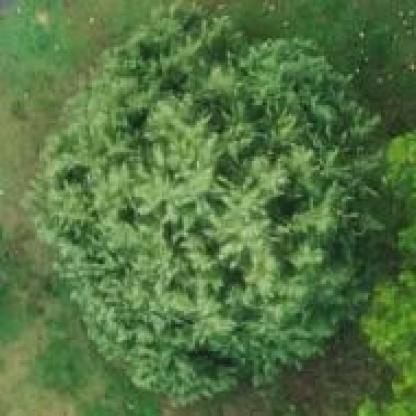Coniferous Tree: (24, 5, 403, 398)
